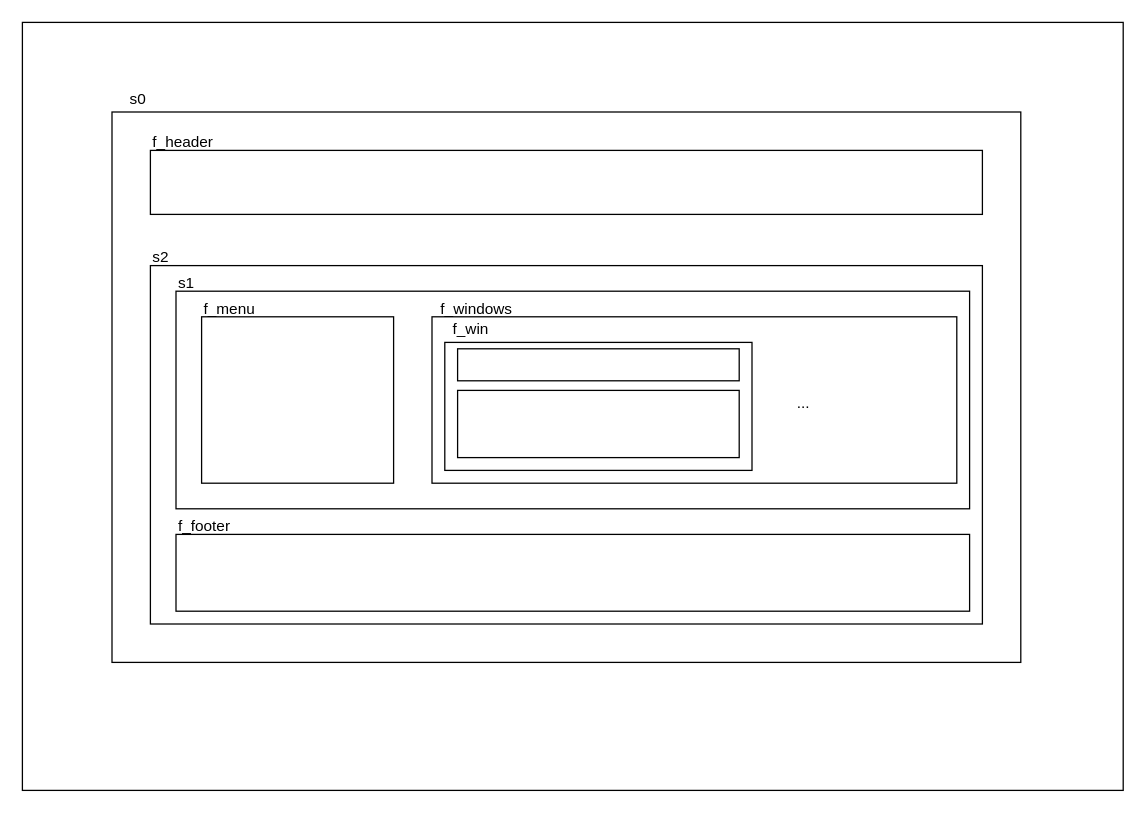
Some shapes in this 1146 by 813 pixel diagram are drawn without their labels. The shapes that lost their labels are listed below. From the top down, each one's centre as x and y in pixels, then its label:
At (x=597, y=364): "q_label".
At (x=597, y=423): "f_win_bottom".
